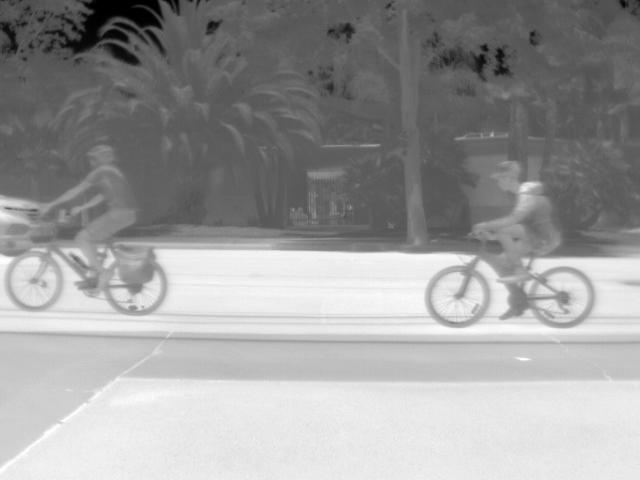car: (3, 193, 59, 249)
person: (471, 158, 565, 320), (40, 144, 140, 292)
